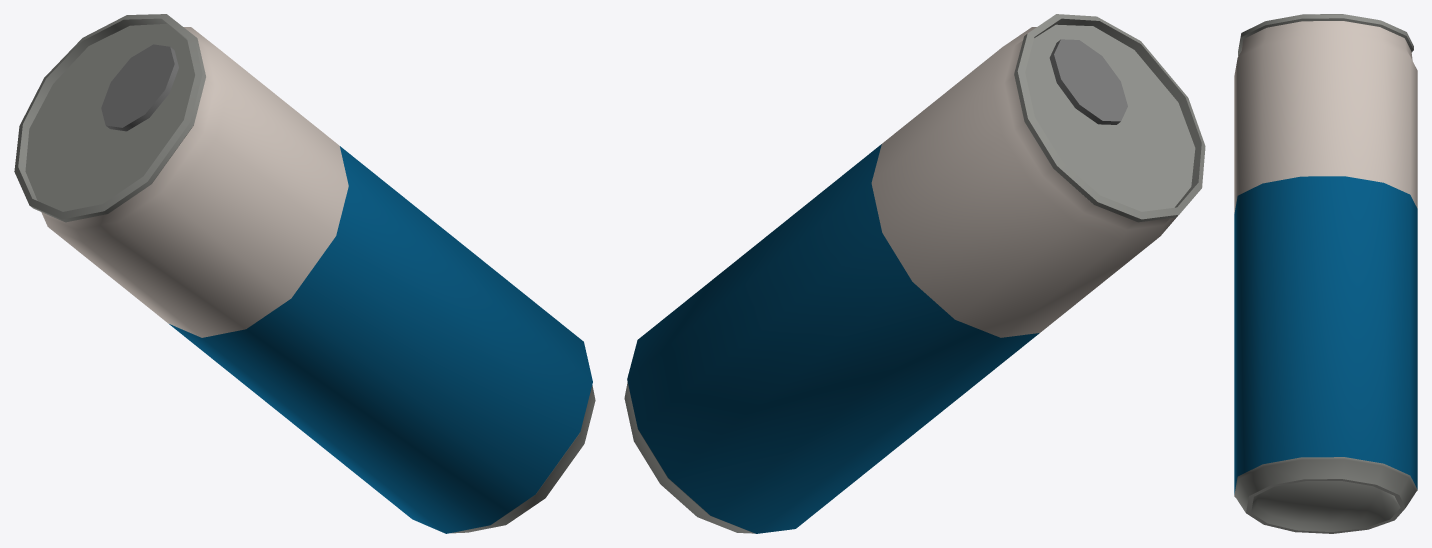
Rendered from Big_can.fbx.
The picture shows the model from 3 angles, left to right: view 1: azimuth 30°, elevation 25°; view 2: azimuth 150°, elevation 25°; view 3: azimuth 270°, elevation 25°; orthographic projection. The views are drawn at different scales.
Visible parts, largest first — view 1: Big_can; view 2: Big_can; view 3: Big_can.
Part boxes in pixels (x1,y1,x2,y2): Big_can: (14, 14, 595, 533); Big_can: (624, 14, 1205, 533); Big_can: (1234, 14, 1417, 533).
Size of the model in its own units: 29.21 by 29.22 by 11.49.
